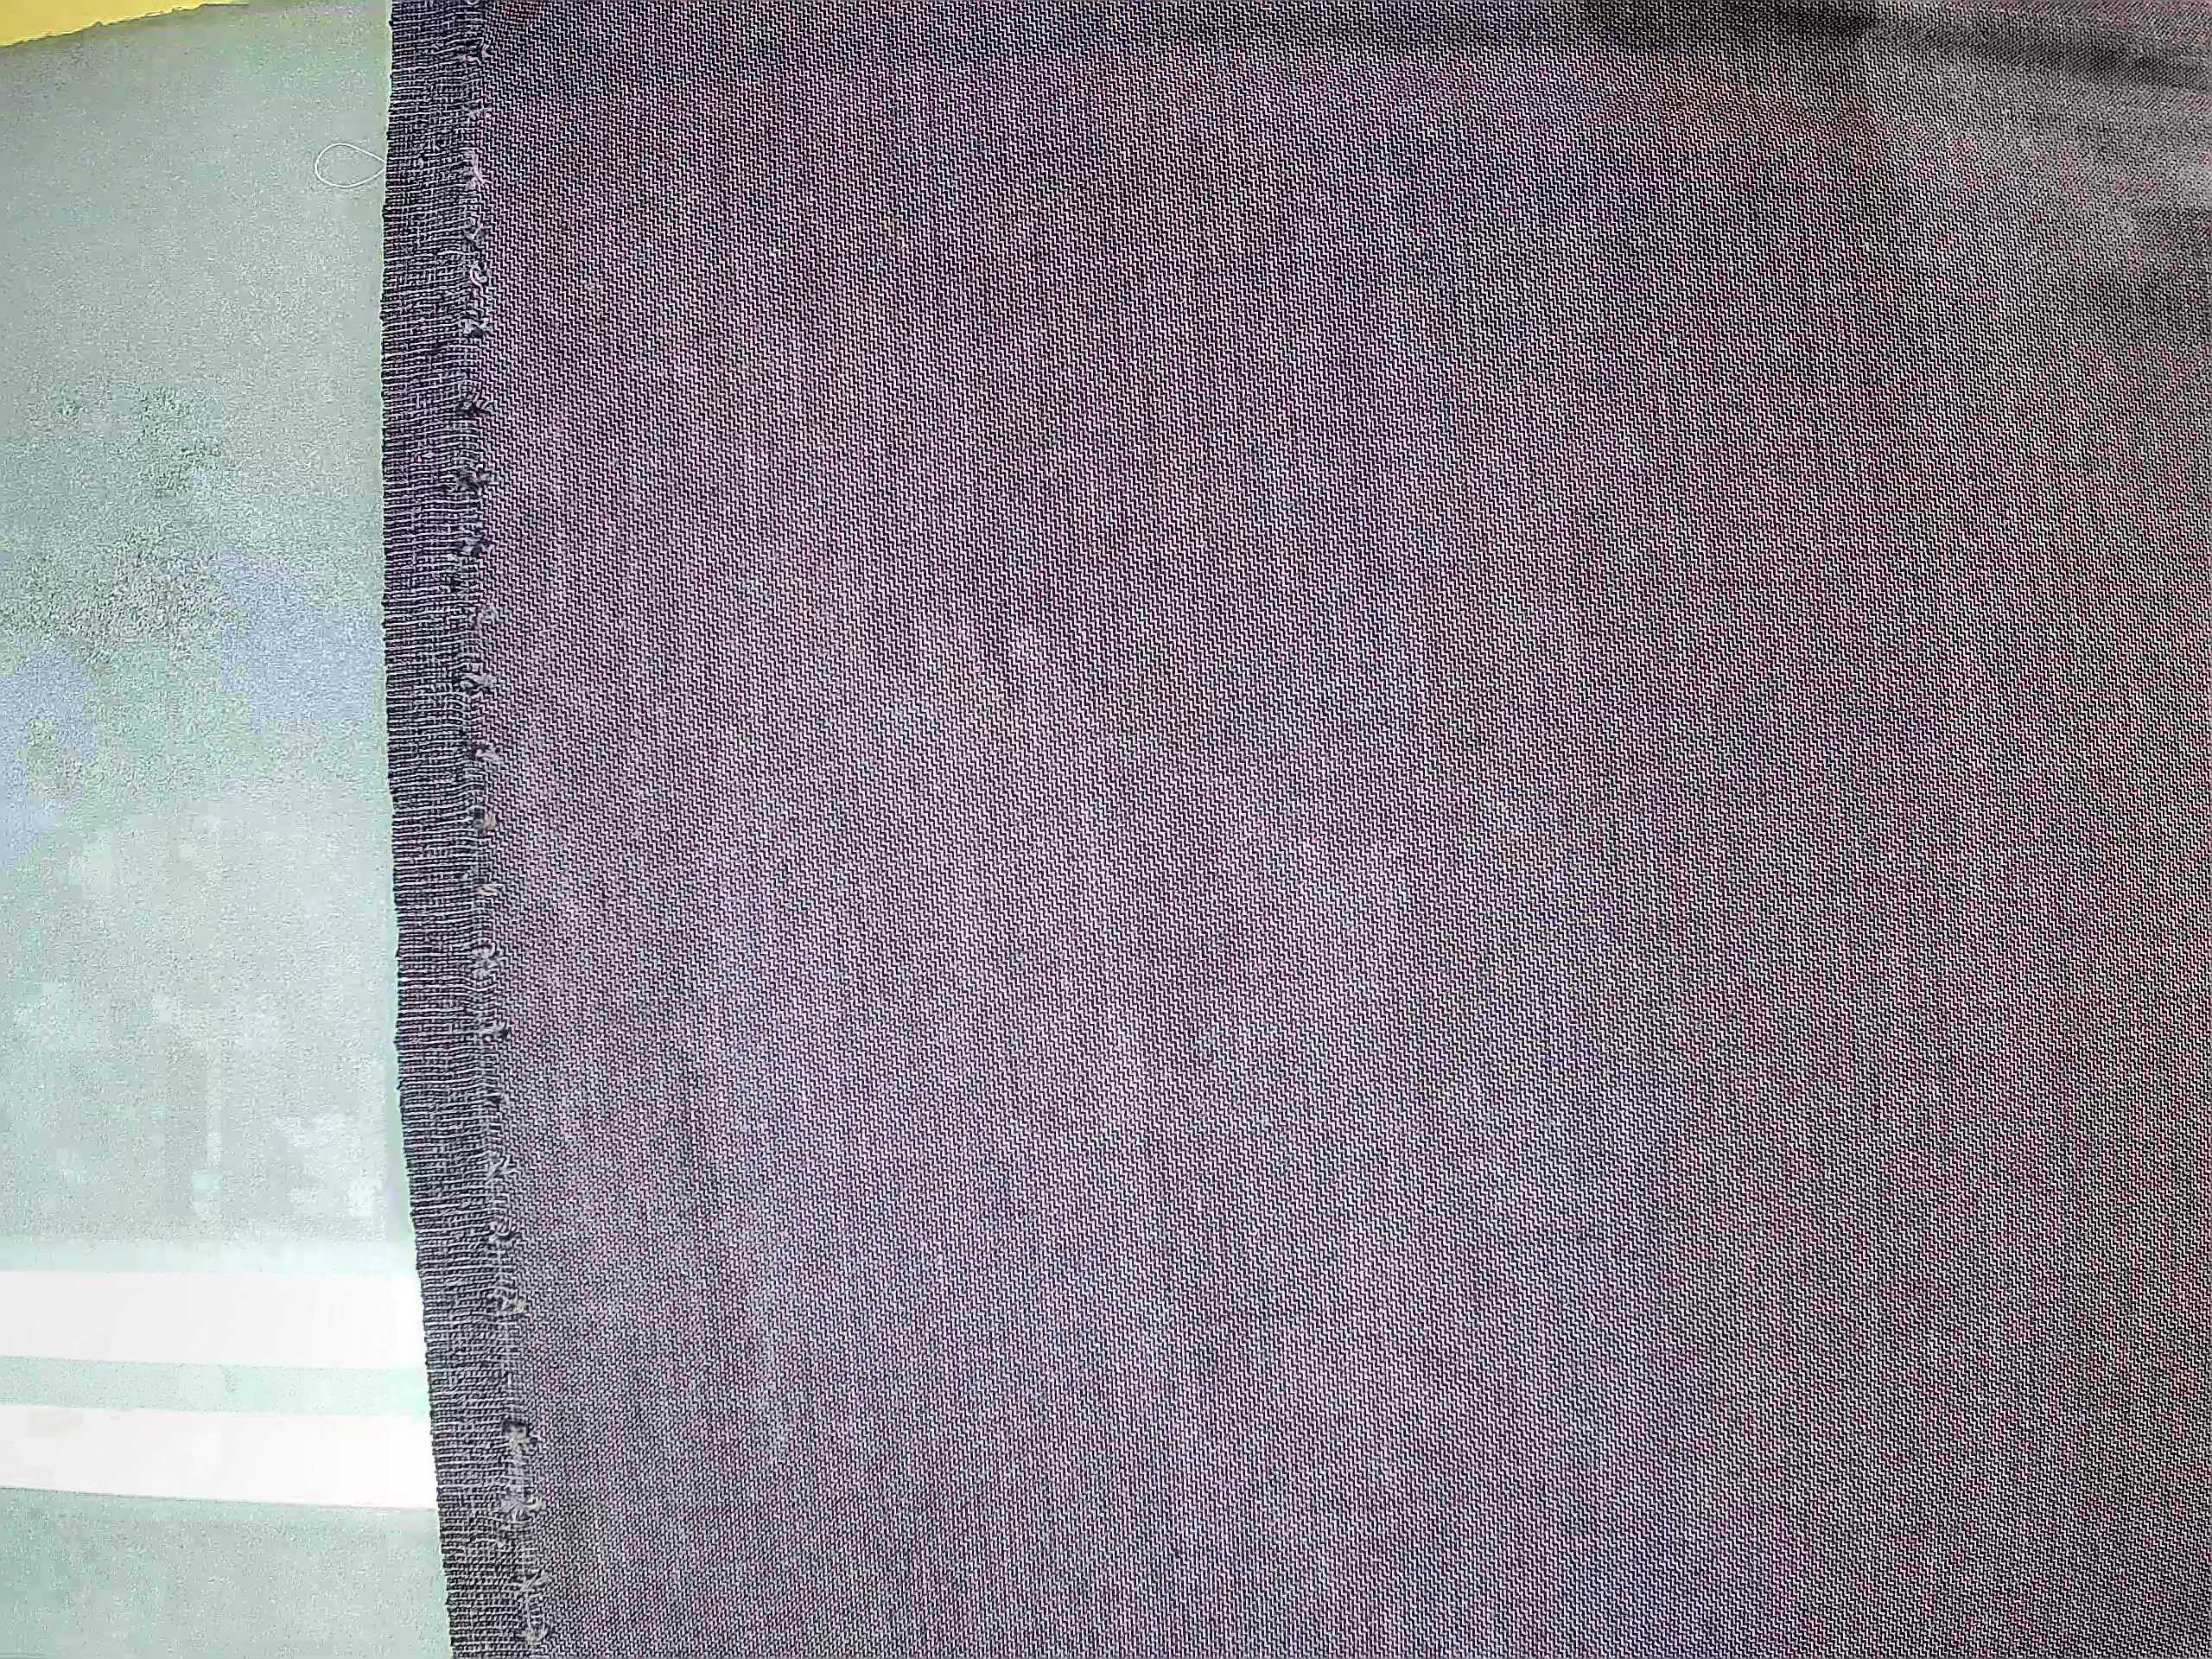puncture-hole: (448, 31, 563, 1652)
